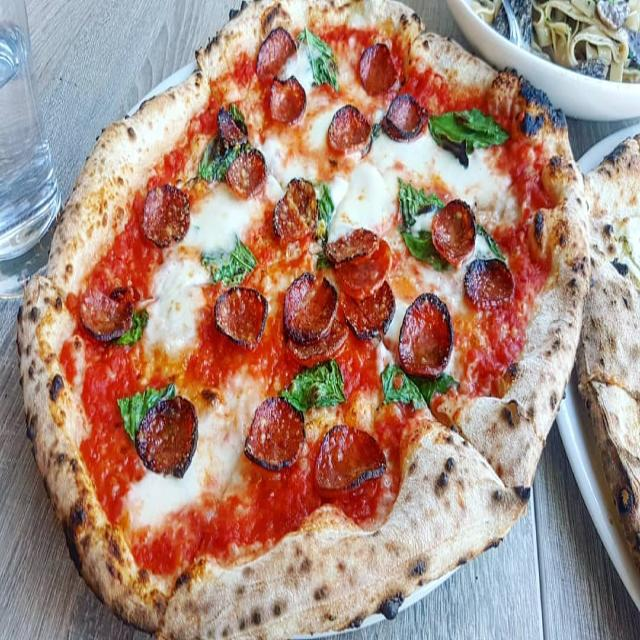basil: (380, 351, 456, 422), (397, 181, 453, 268), (428, 110, 508, 168), (116, 385, 178, 457), (279, 30, 341, 90), (281, 359, 347, 414), (201, 241, 259, 288), (194, 135, 242, 186), (80, 312, 147, 348), (314, 182, 337, 267), (476, 220, 506, 262), (372, 122, 387, 142)
pepperoni: (136, 398, 198, 480), (395, 293, 454, 378), (242, 394, 304, 474), (255, 28, 306, 124), (315, 426, 387, 493), (273, 180, 324, 268), (464, 238, 518, 308), (285, 275, 342, 341), (140, 182, 194, 249), (73, 289, 140, 343), (214, 288, 271, 350), (431, 200, 480, 269), (378, 88, 434, 144), (326, 106, 376, 168), (348, 282, 397, 342), (221, 147, 268, 202), (358, 43, 400, 104), (268, 73, 309, 128), (327, 230, 382, 268), (214, 101, 248, 152), (293, 325, 347, 353)
pizza: (14, 0, 607, 640)
